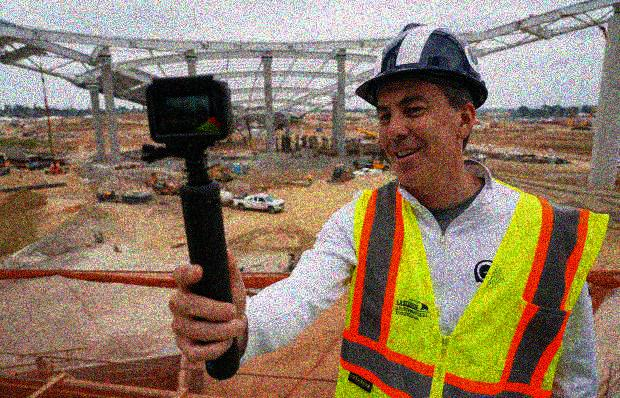helmet: (352, 24, 487, 182)
